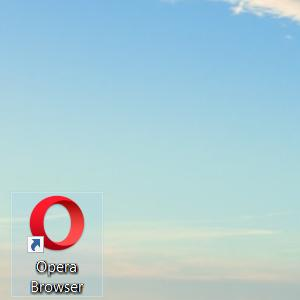opera: (27, 195, 84, 253)
